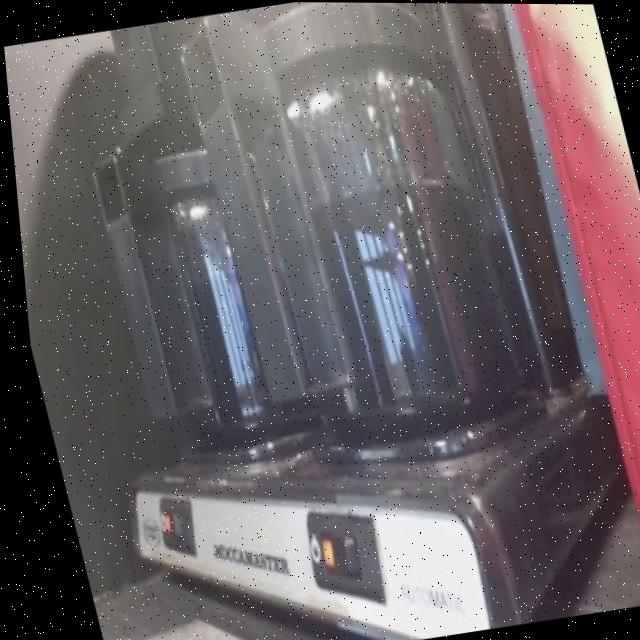coffee: (251, 112, 517, 430), (143, 199, 305, 445)
